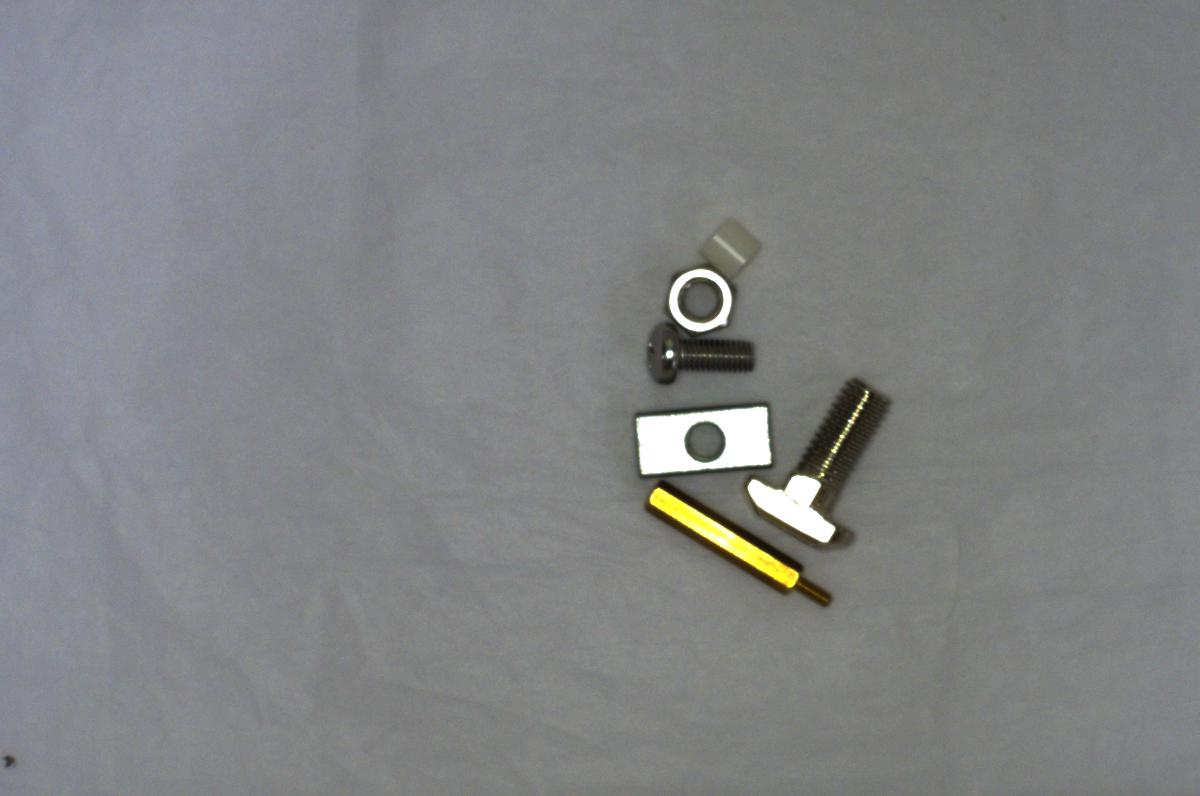Hexagon nut: (657, 260, 748, 336)
Hexagon pillar: (635, 479, 835, 618)
Plastic cushion pillar: (701, 223, 768, 278)
Rectangular nut: (626, 395, 779, 483)
Round head screw: (641, 319, 768, 387)
T-shaped screw: (735, 365, 894, 556)
